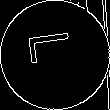L_E: (28, 36, 82, 74)
